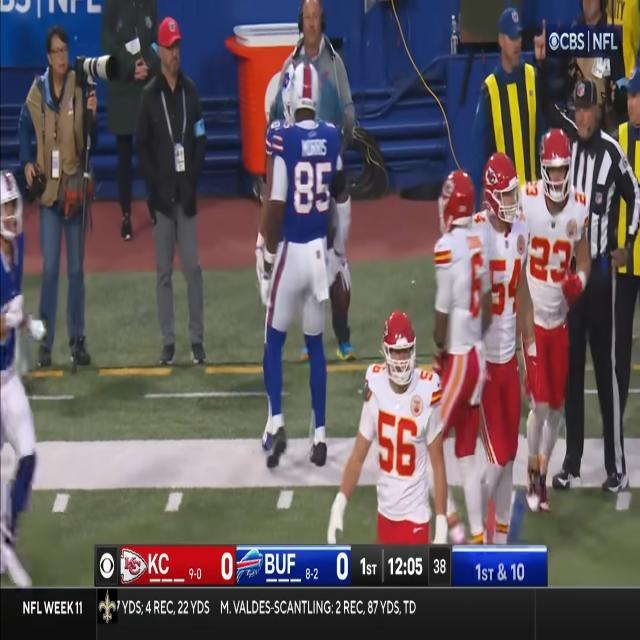Player: (266, 66, 340, 467), (521, 132, 575, 498), (358, 315, 438, 539), (1, 172, 38, 583), (481, 162, 524, 507), (437, 167, 477, 498)
Referee: (574, 72, 624, 498)
